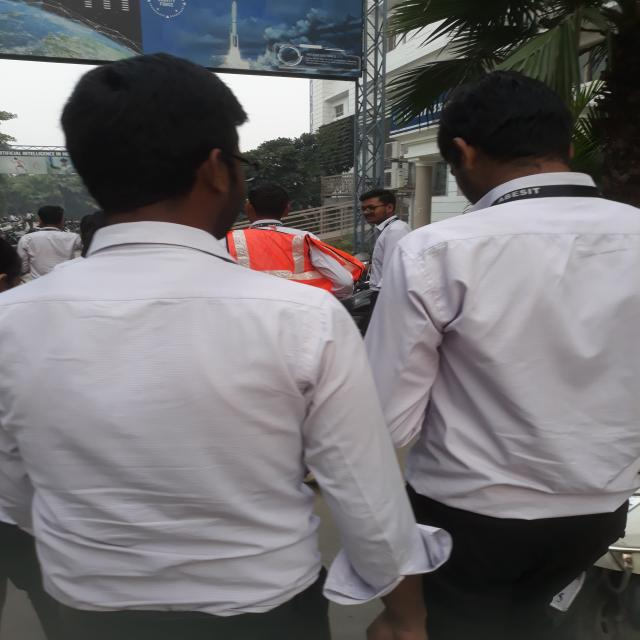unsafe: (7, 48, 436, 640), (391, 78, 640, 640)
